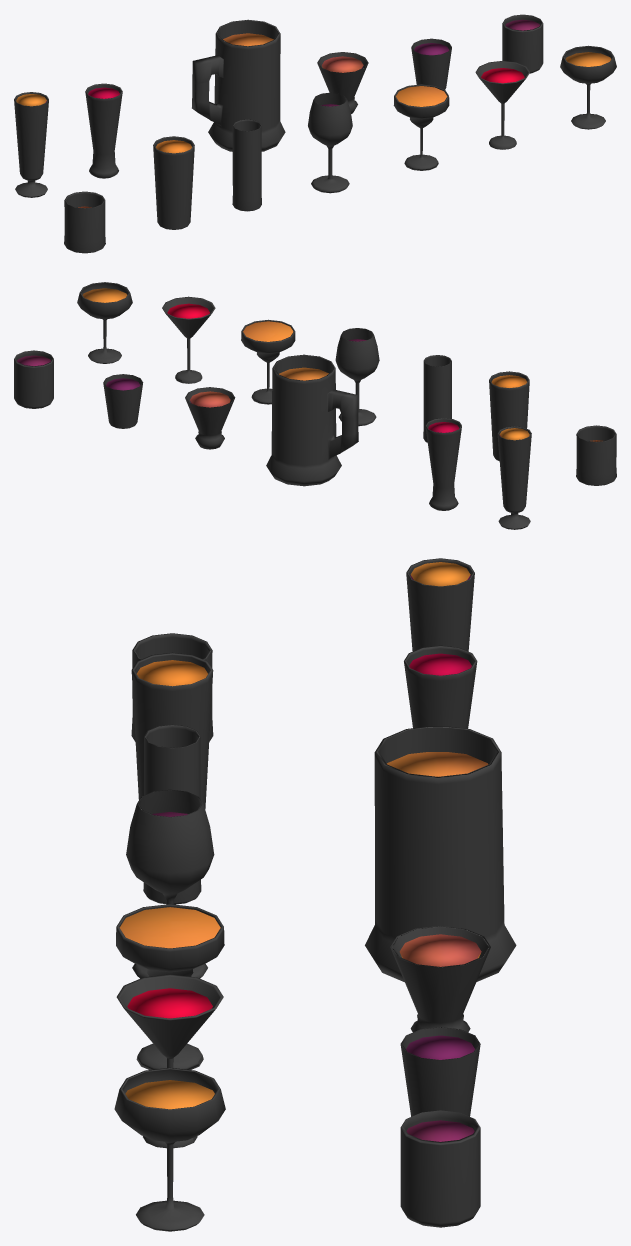
Rendered from Drinks.fbx.
3 renders of one model, top to bottom at view 1: azimuth 30°, elevation 25°; view 2: azimuth 150°, elevation 25°; view 3: azimuth 270°, elevation 25°, orthographic. The views are drawn at different scales.
Parts seen in each view (by area): view 1: Beer, DrinksCup_06, DrinksCup_08, DrinksCup_07, DrinksCup_09, DrinksCup_10, DrinksCup_11, DrinksCup_12, DrinksCup_02, DrinksCup_04, DrinksCup_03, DrinksCup_05 (+1 smaller); view 2: Beer, DrinksCup_08, DrinksCup_07, DrinksCup_06, DrinksCup_11, DrinksCup_10, DrinksCup_04, DrinksCup_02, DrinksCup_05, DrinksCup_12, DrinksCup_09, DrinksCup_03 (+1 smaller); view 3: Beer, DrinksCup_04, DrinksCup_02, DrinksCup_10, DrinksCup_12, DrinksCup_05, DrinksCup_06, DrinksCup_03, DrinksCup_01, DrinksCup_08, DrinksCup_07, DrinksCup_09 (+1 smaller).
Boxes of the visible parts, left/top/right/bottom form: Beer: left=192, top=19, right=285, bottom=151; DrinksCup_06: left=153, top=136, right=194, bottom=229; DrinksCup_08: left=14, top=92, right=48, bottom=197; DrinksCup_07: left=85, top=83, right=122, bottom=178; DrinksCup_09: left=232, top=119, right=261, bottom=211; DrinksCup_10: left=308, top=92, right=352, bottom=193; DrinksCup_11: left=64, top=191, right=105, bottom=253; DrinksCup_12: left=393, top=84, right=449, bottom=170; DrinksCup_02: left=560, top=45, right=616, bottom=129; DrinksCup_04: left=502, top=14, right=543, bottom=73; DrinksCup_03: left=475, top=60, right=529, bottom=149; DrinksCup_05: left=317, top=52, right=368, bottom=113; Beer: left=266, top=354, right=358, bottom=486; DrinksCup_08: left=497, top=426, right=531, bottom=529; DrinksCup_07: left=425, top=418, right=461, bottom=510; DrinksCup_06: left=489, top=371, right=529, bottom=461; DrinksCup_11: left=576, top=425, right=616, bottom=485; DrinksCup_10: left=335, top=328, right=379, bottom=426; DrinksCup_04: left=14, top=350, right=53, bottom=408; DrinksCup_02: left=77, top=282, right=132, bottom=363; DrinksCup_05: left=185, top=387, right=235, bottom=449; DrinksCup_12: left=241, top=319, right=295, bottom=404; DrinksCup_09: left=423, top=355, right=451, bottom=442; DrinksCup_03: left=162, top=296, right=215, bottom=383; Beer: left=365, top=726, right=516, bottom=981; DrinksCup_04: left=400, top=1110, right=480, bottom=1227; DrinksCup_02: left=114, top=1067, right=225, bottom=1231; DrinksCup_10: left=126, top=789, right=214, bottom=978; DrinksCup_12: left=116, top=904, right=224, bottom=1069; DrinksCup_05: left=390, top=926, right=490, bottom=1032; DrinksCup_06: left=131, top=652, right=213, bottom=808; DrinksCup_03: left=116, top=974, right=223, bottom=1148; DrinksCup_01: left=400, top=1027, right=480, bottom=1116; DrinksCup_08: left=406, top=558, right=474, bottom=651; DrinksCup_07: left=404, top=645, right=477, bottom=728; DrinksCup_09: left=143, top=724, right=201, bottom=904.
Size of the model in its own units: 171 by 31.76 by 55.9.
Materials: 2 (1 with a texture image).
